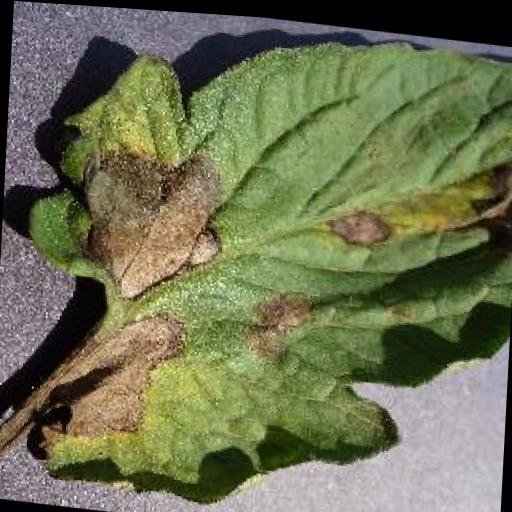Late Blight: (12, 1, 512, 512)
